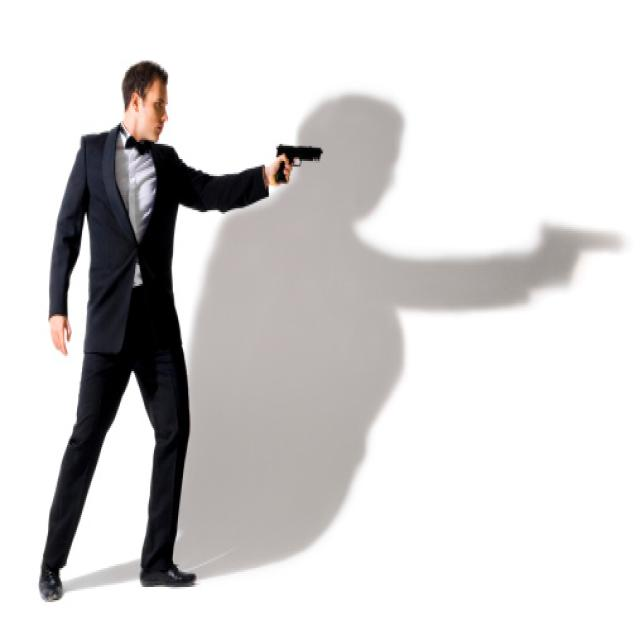HandGun: (273, 144, 323, 186)
